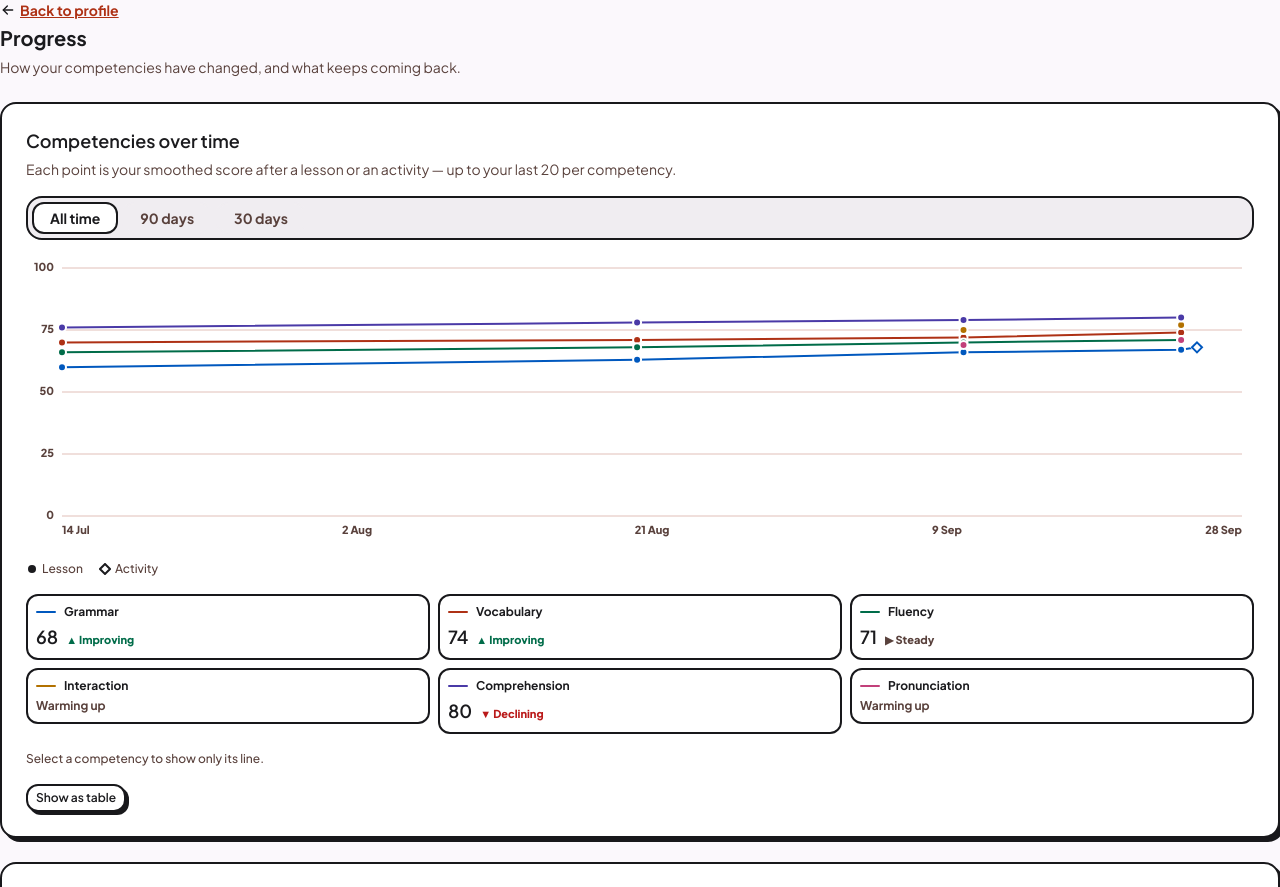
Test: ProgressScreen › an_empty_range_shows_its_own_message
Click the radio button labelled "30 days": (261, 218) x1=216 y1=202 x2=306 y2=234
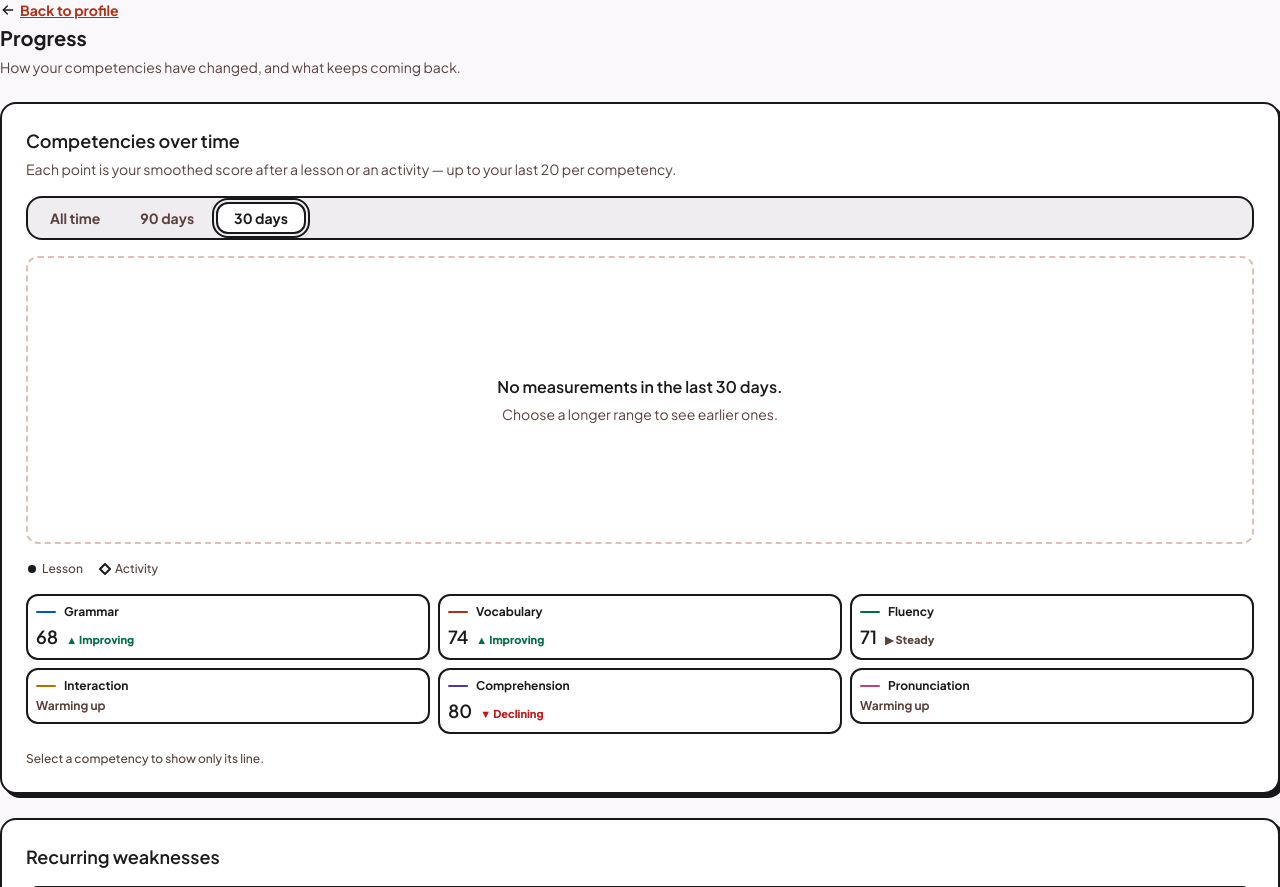
Now the text "No measurements in the last 30 days." is shown, box x1=497 y1=375 x2=783 y2=399
Now the text "Choose a longer range to see earlier ones." is shown, box x1=502 y1=403 x2=778 y2=425
